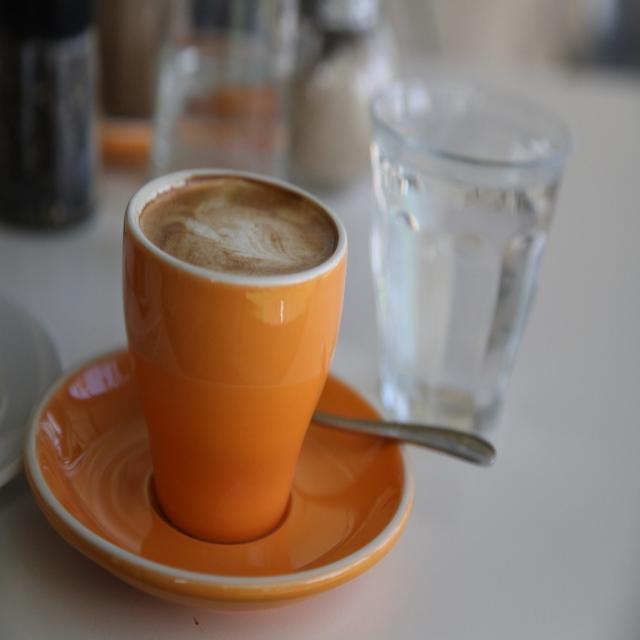latte: (124, 166, 348, 287)
